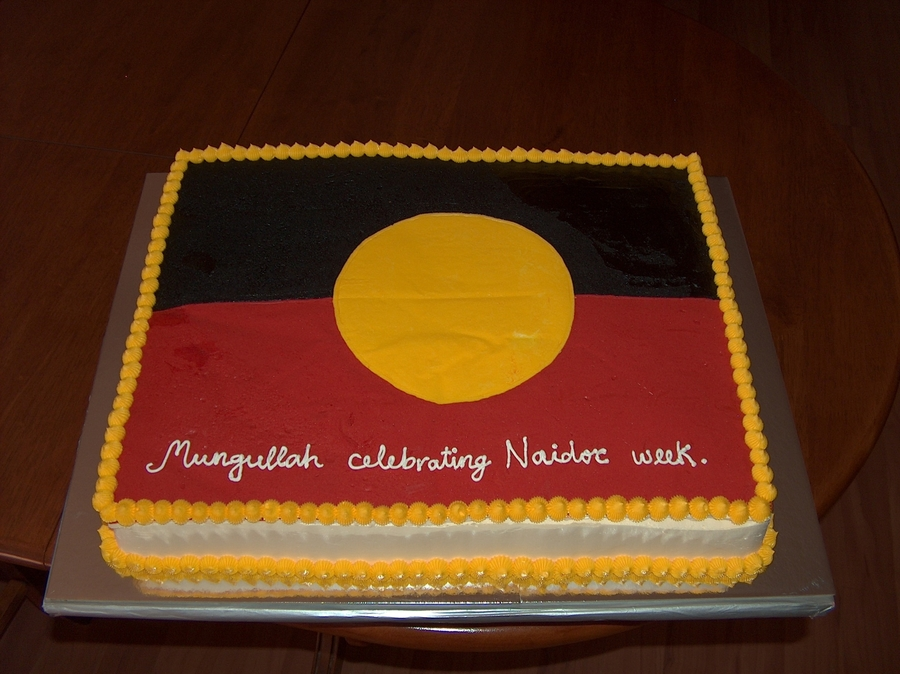aboriginal_flag: (76, 127, 779, 555)
